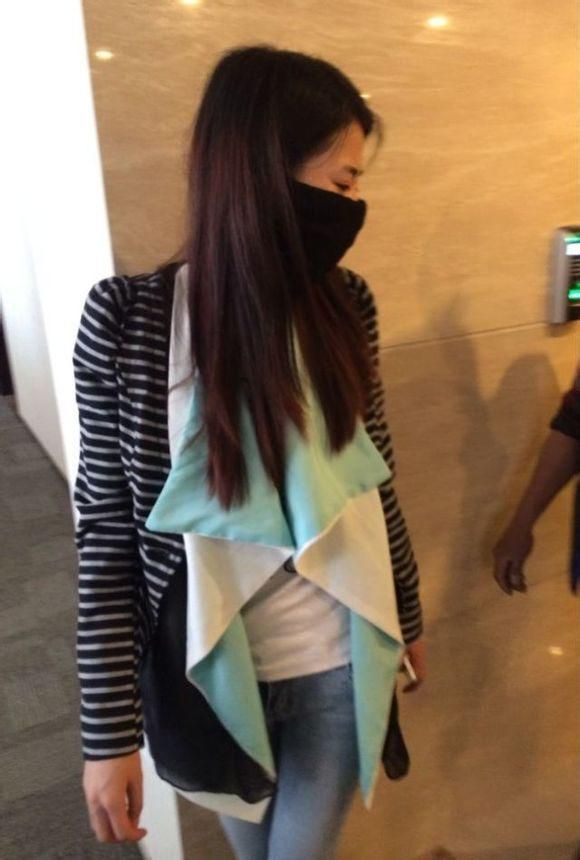OK: (260, 143, 369, 264)
